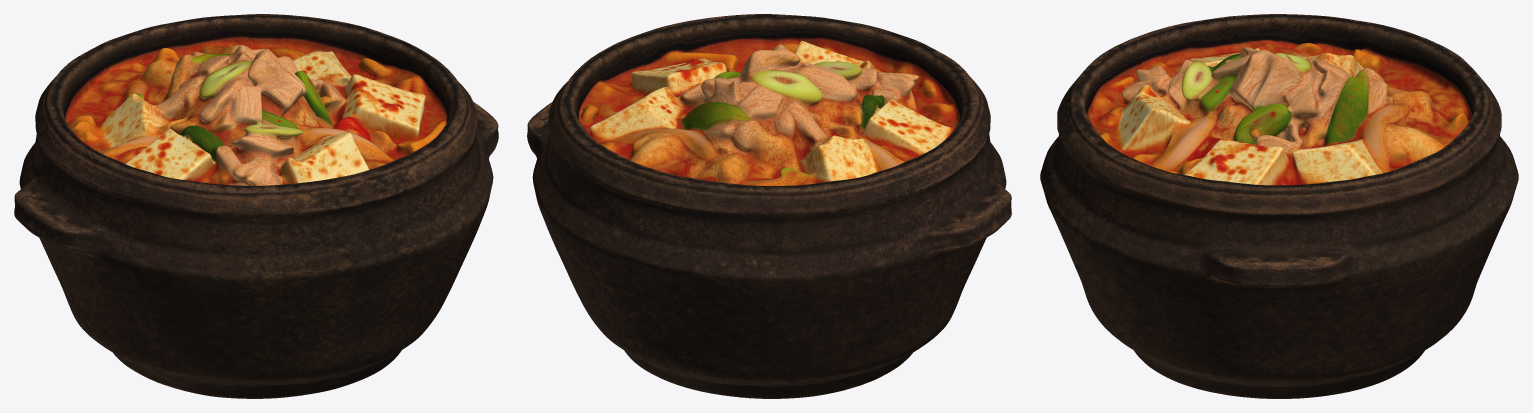
Rendered from 두부참치짜글이.glb.
3 views of the same model, side by side, from view 1: azimuth 30°, elevation 25°; view 2: azimuth 150°, elevation 25°; view 3: azimuth 270°, elevation 25° (orthographic).
Size of the model in its own units: 1.9 by 1.14 by 1.73.
1 material, 1 textured.
